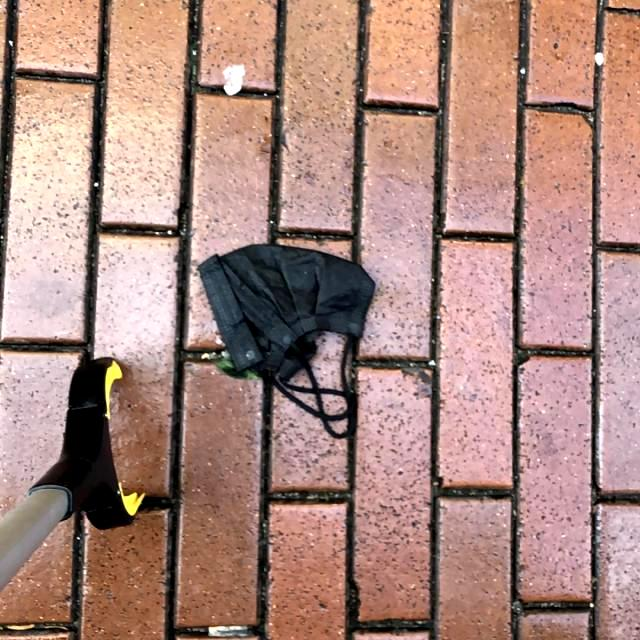Mask: (193, 240, 377, 440)
